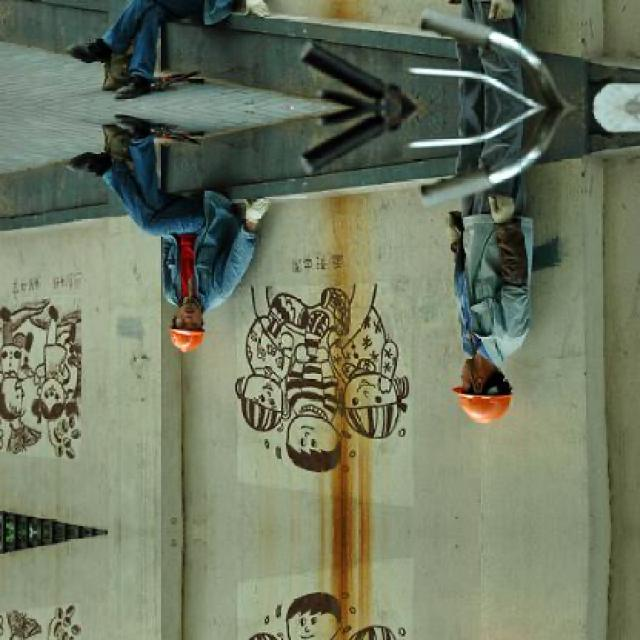con casco: (445, 359, 536, 432), (153, 295, 230, 355)
